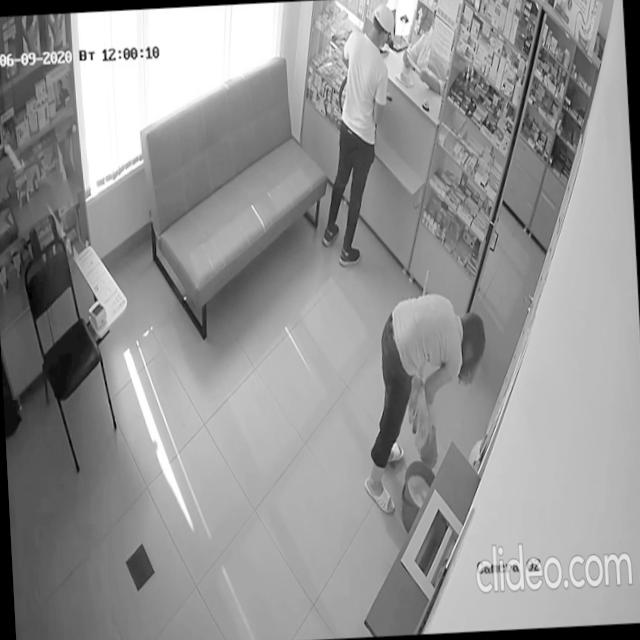person: (356, 290, 496, 520), (312, 2, 406, 266)
